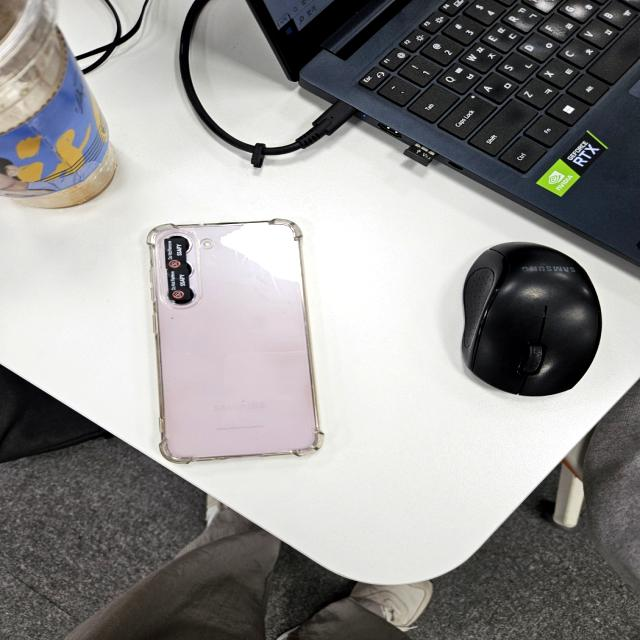phone: (147, 219, 325, 463)
sticker: (167, 269, 191, 300), (165, 238, 186, 269)
